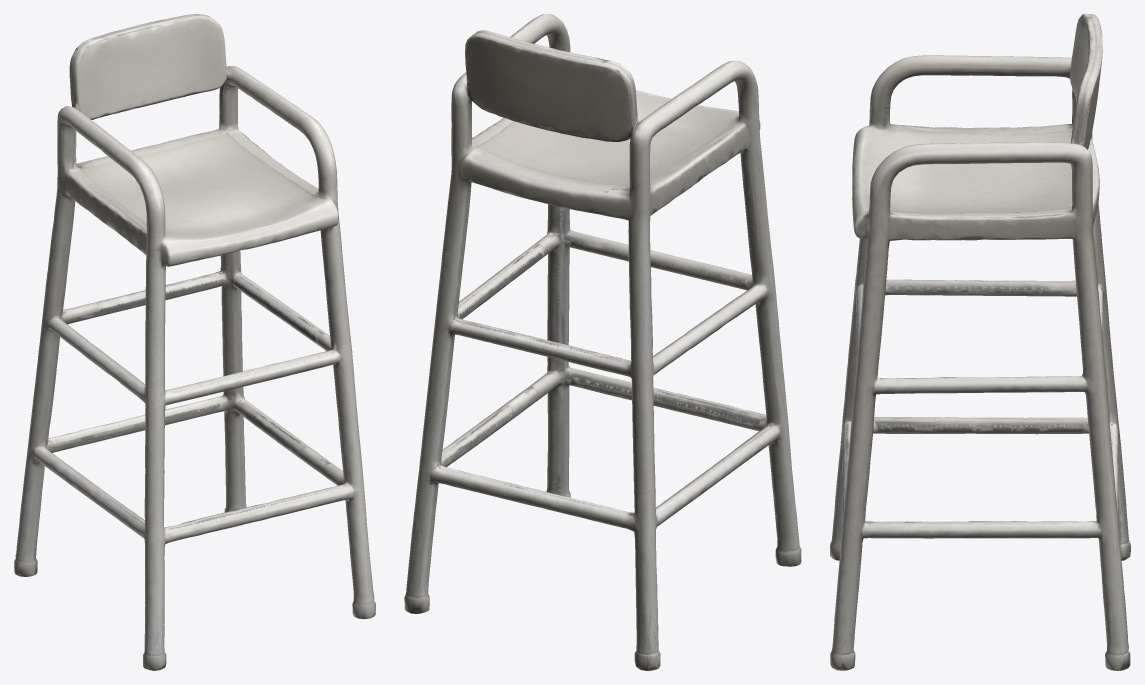
File: VAR_SunkenCity_LifeguardChair.fbx
3 renders of one model, left to right at view 1: azimuth 30°, elevation 25°; view 2: azimuth 150°, elevation 25°; view 3: azimuth 270°, elevation 25°, orthographic. The views are drawn at different scales.
Visible parts, largest first — view 1: texture_mapping; view 2: texture_mapping; view 3: texture_mapping.
Boxes of the visible parts, left/top/right/bottom form: texture_mapping: left=14, top=14, right=375, bottom=670; texture_mapping: left=404, top=14, right=801, bottom=670; texture_mapping: left=830, top=14, right=1130, bottom=670.
Bounding box in the file's own units: 0.4582 × 0.4822 × 1.
Materials: 1 (1 with a texture image).
